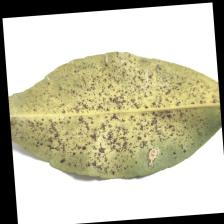canker: (76, 87, 164, 149)
